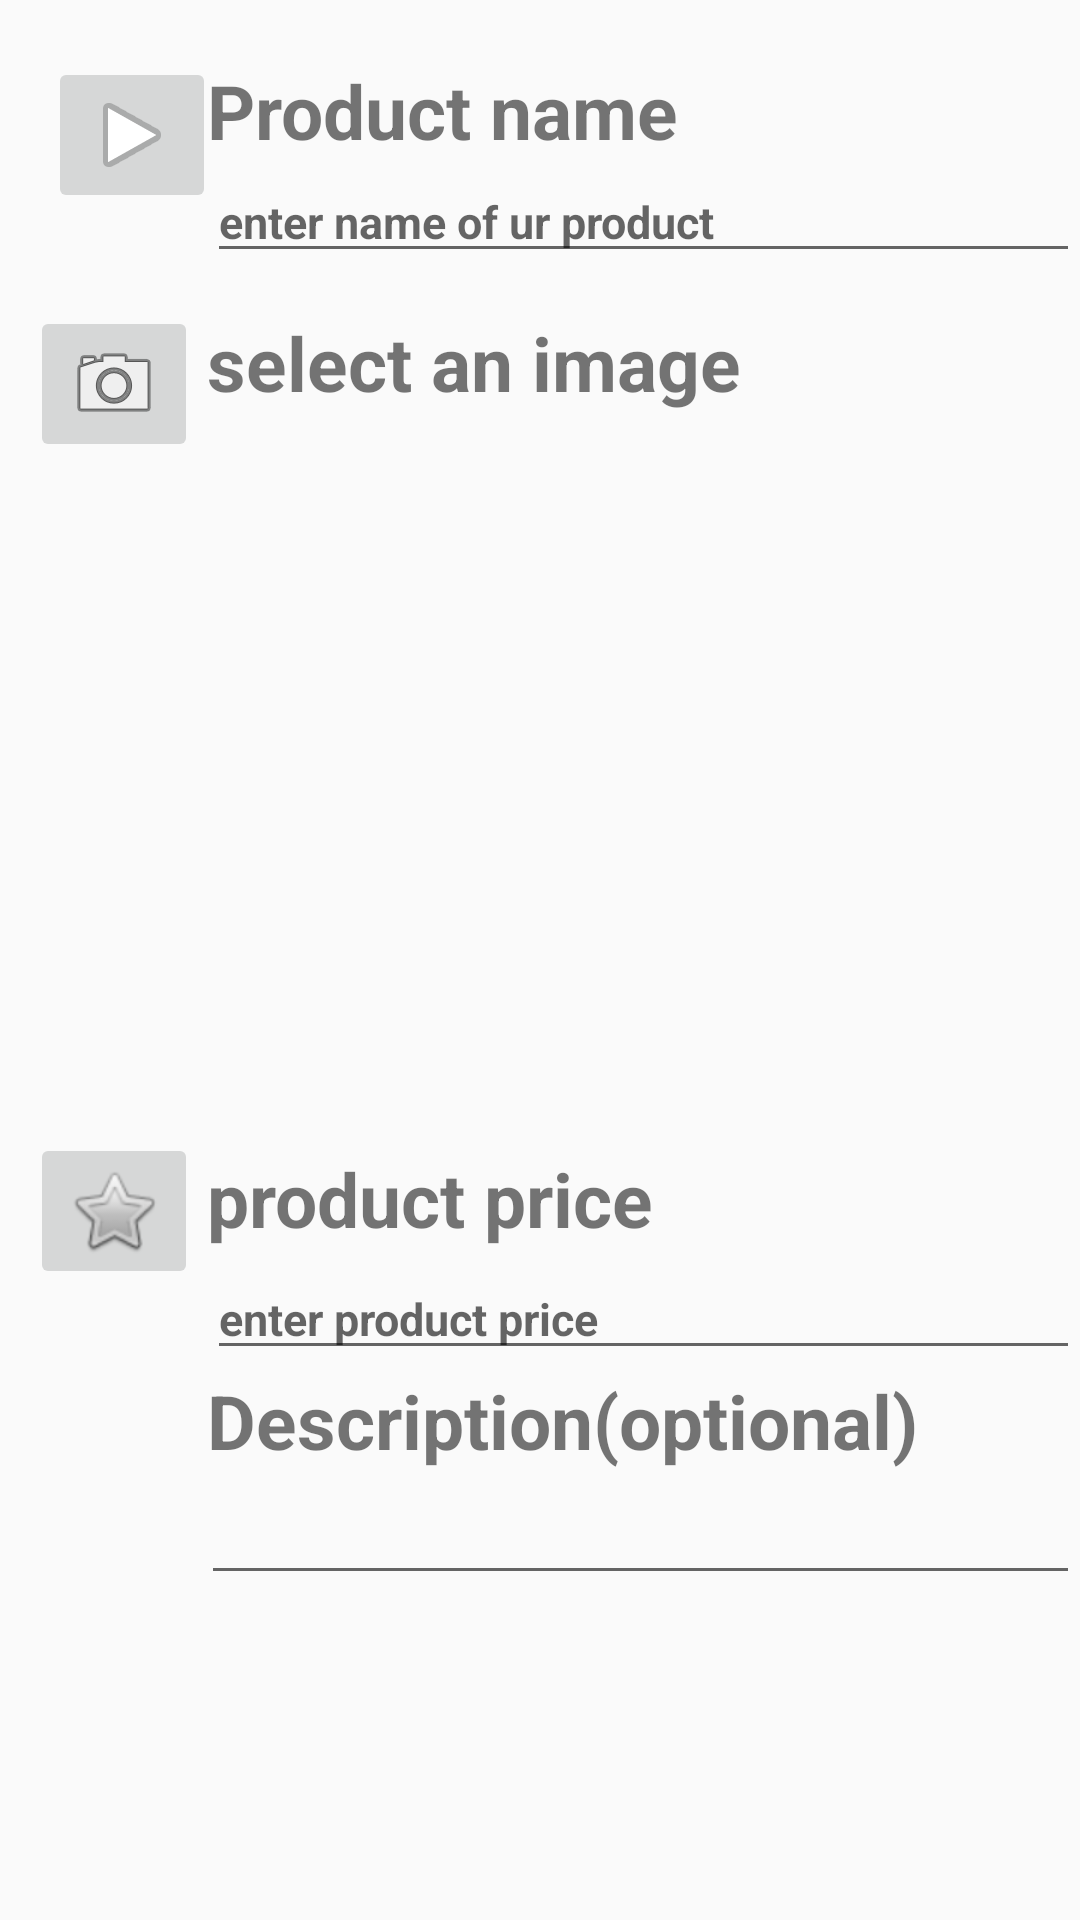

Screen size 1080px×1920px. Icon name, then its box in pixels as [x1,y1,x2,y2]:
camera: [42,324,186,444]
play: [60,75,204,195]
star: [42,1151,186,1271]
